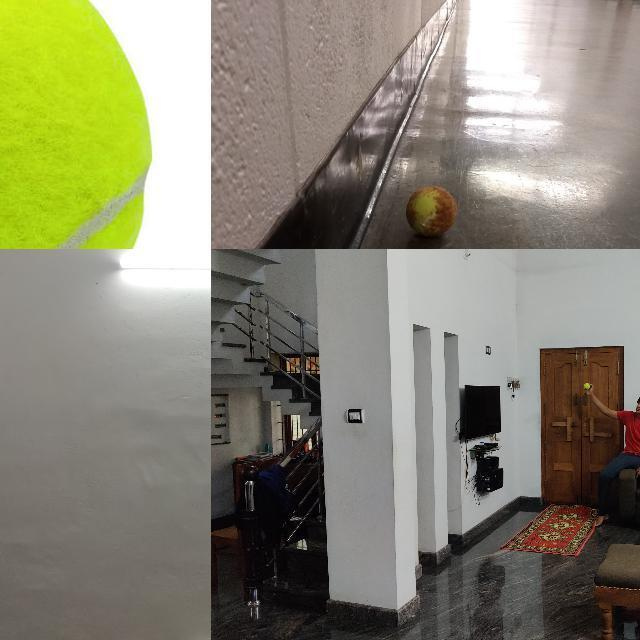tennis-ball: (0, 0, 152, 248), (405, 185, 457, 237), (583, 383, 589, 389)
